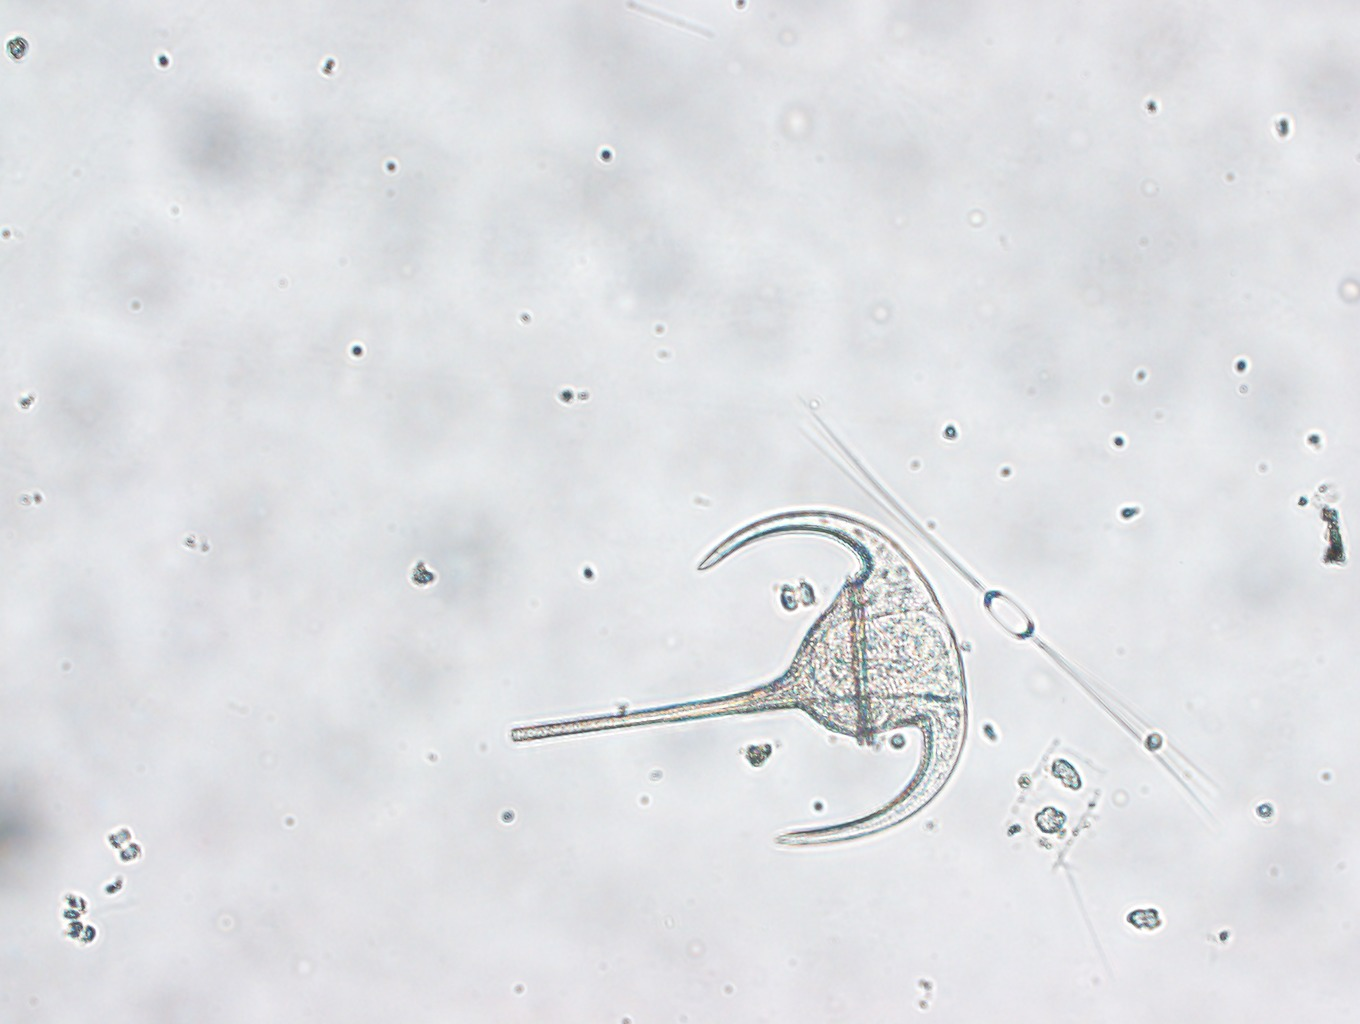ceratium tripos: (510, 510, 969, 844)
chaetoceros: (796, 402, 1221, 811), (1006, 737, 1111, 970)
